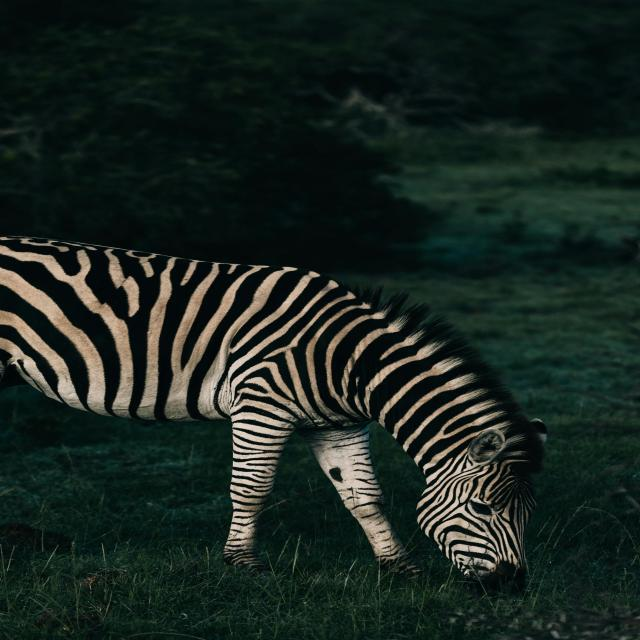Zebra: (0, 234, 545, 592)
